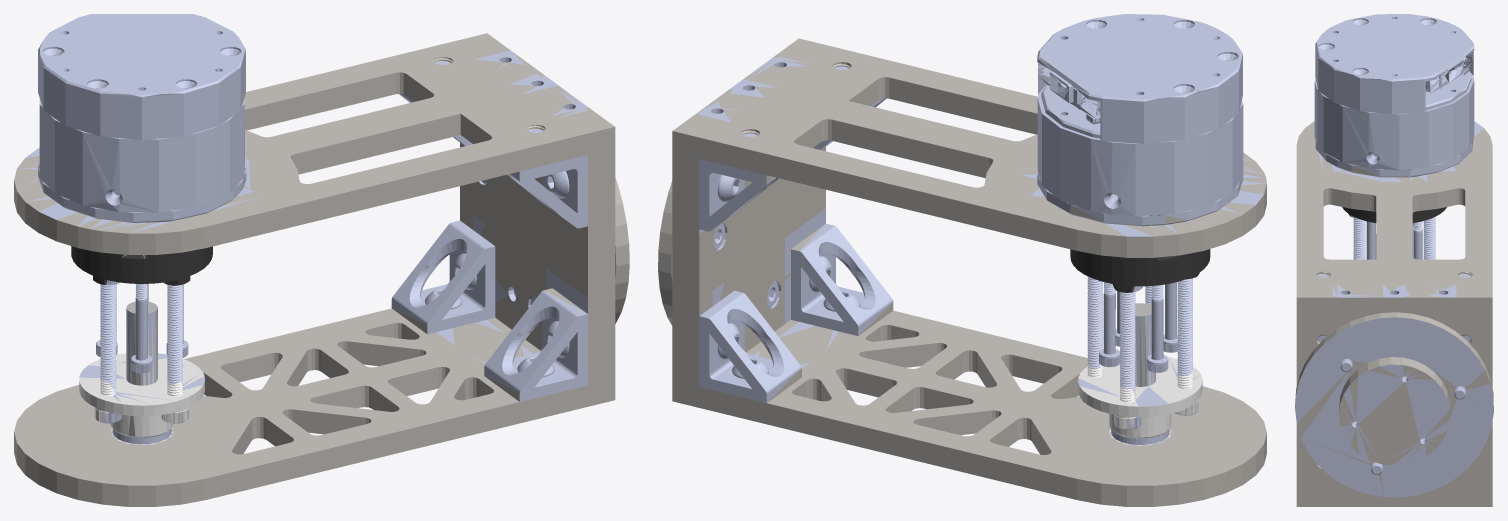
File: Back Left Swerve.glb
3 renders of one model, left to right at view 1: azimuth 30°, elevation 25°; view 2: azimuth 150°, elevation 25°; view 3: azimuth 270°, elevation 25°, orthographic. The views are drawn at different scales.
Size of the model in its own units: 0.1623 by 0.1128 by 0.0659.
